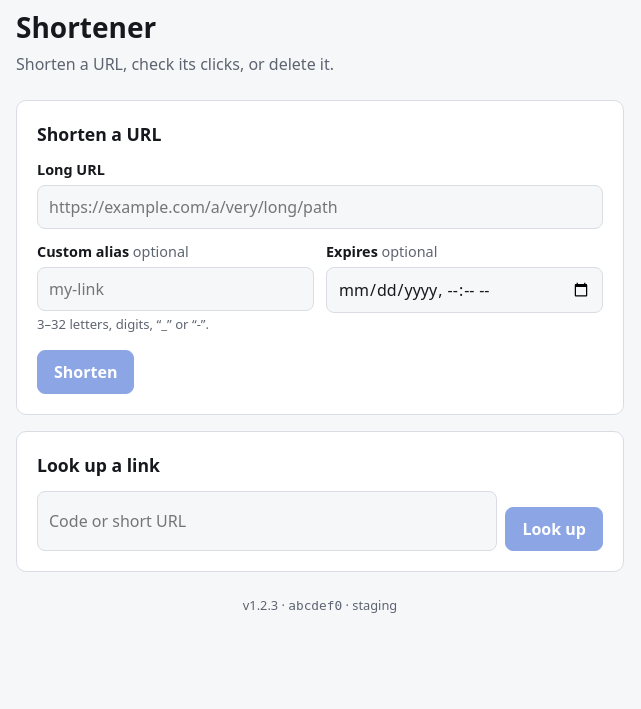
Test case: creating a link › marks fields named in validation errors
Type "nope" into the field labelled "Long URL" at (320, 207), box top-left (37, 185), bottom-right (603, 229)
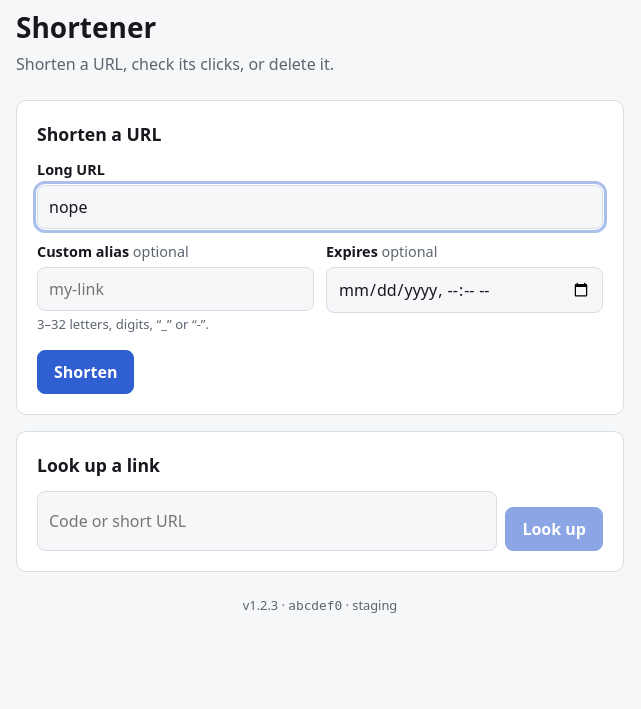
Click the button "Shorten" at (86, 372), box top-left (37, 350), bottom-right (134, 394)
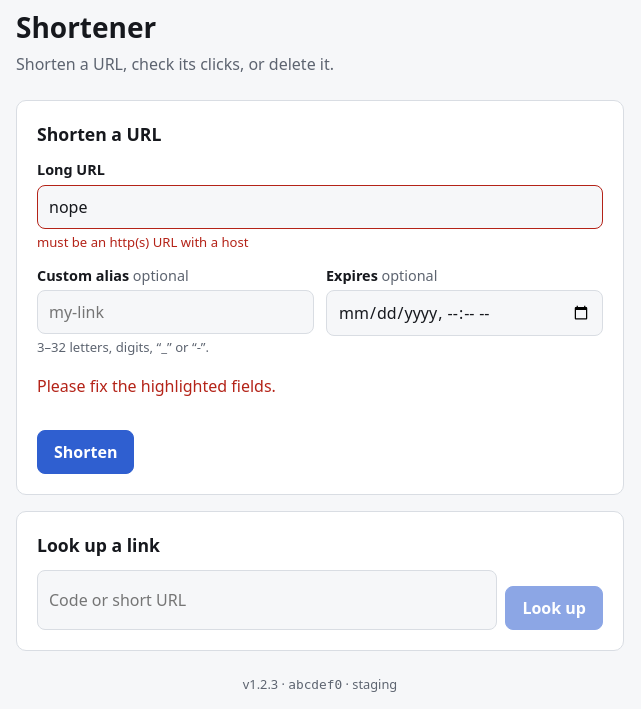
Expected: the text "must be an http(s) URL with a host" is shown, top-left (37, 233), bottom-right (248, 251)
